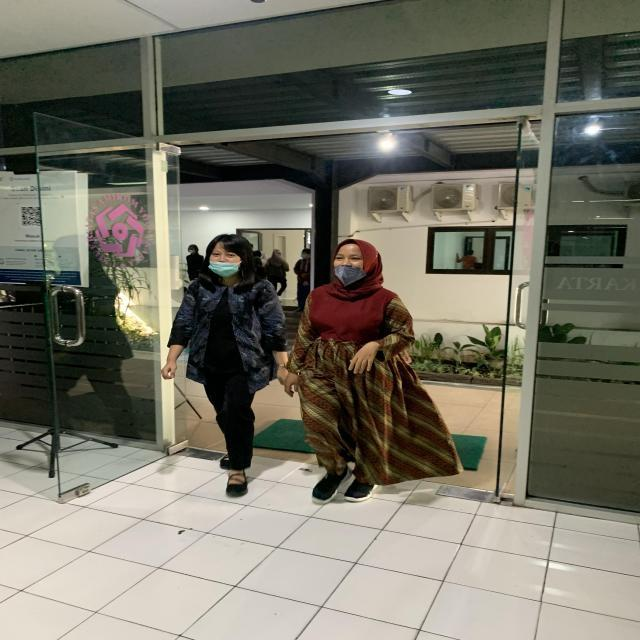hairnet: (327, 260, 374, 291), (200, 253, 253, 280)
